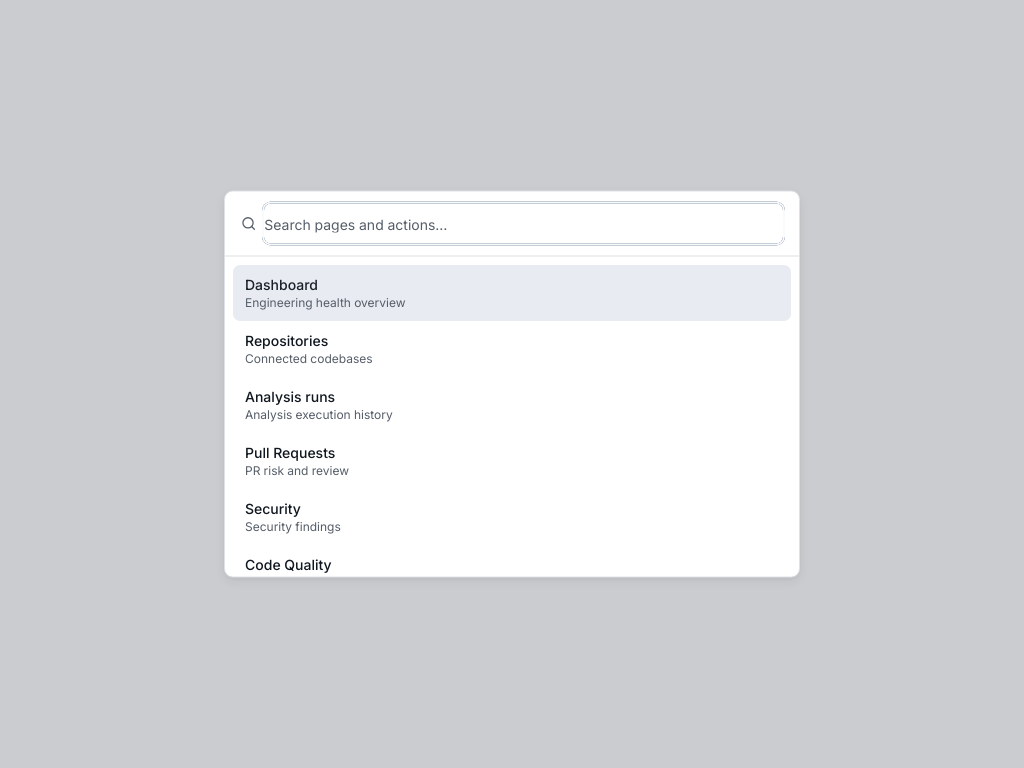
Test: CommandPalette › shows disabled run analysis action with explanation
Type "run analysis" into the field with placeholder "Search pages and actions…" at (524, 224), box [264,204,783,244]
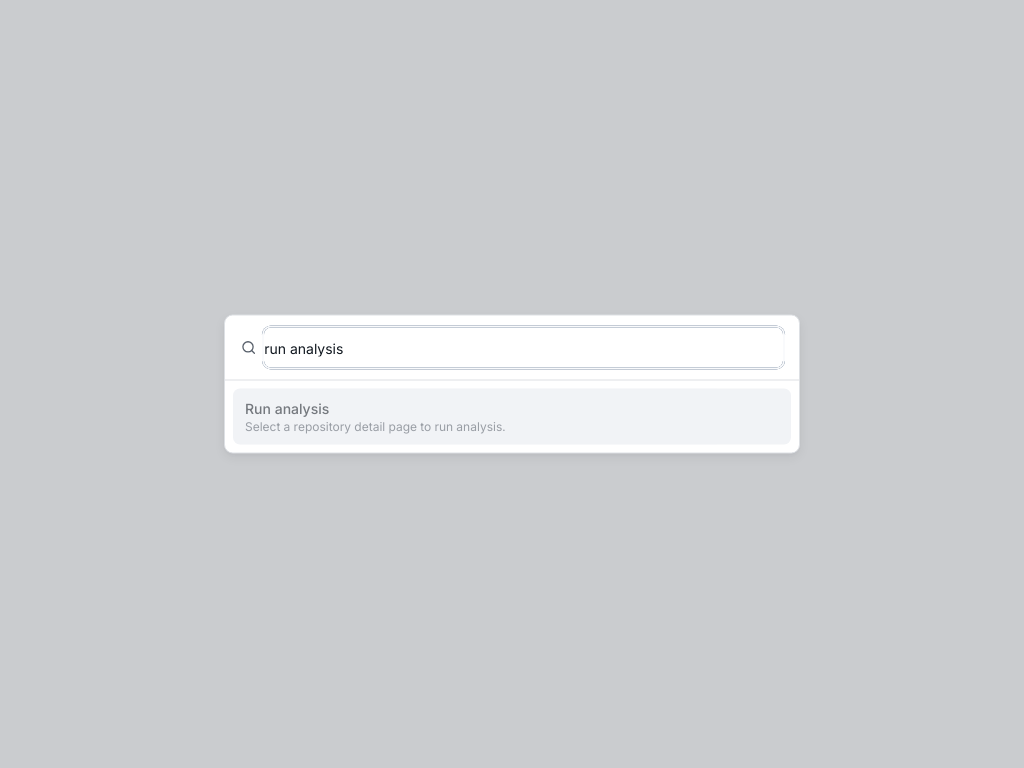
expect the option "Run analysis" is disabled: met, box [233,388,791,444]
expect the text "Select a repository detail page to run analysis." is shown: met, box [245,418,506,434]
